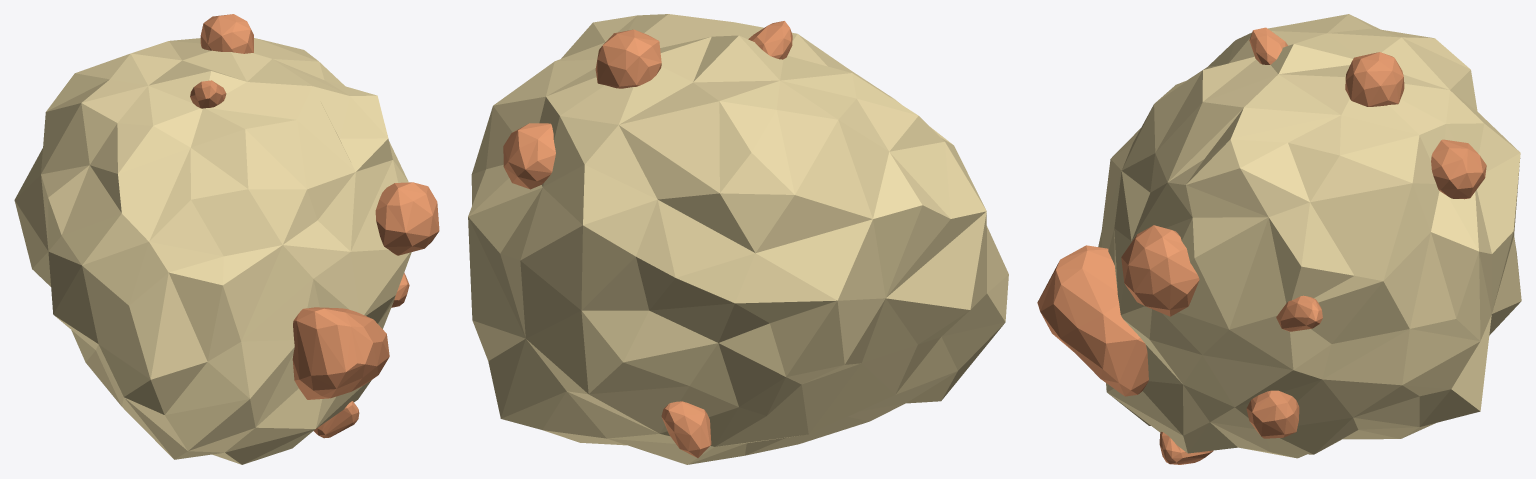
File: StoneOre (59).fbx
3 renders of one model, left to right at view 1: azimuth 30°, elevation 25°; view 2: azimuth 150°, elevation 25°; view 3: azimuth 270°, elevation 25°, orthographic. The views are drawn at different scales.
Parts seen in each view (by area): view 1: Asteroid346; view 2: Asteroid346; view 3: Asteroid346.
Part boxes in pixels (<box>): Asteroid346: <box>14,14,439,464</box>; Asteroid346: <box>468,14,1008,464</box>; Asteroid346: <box>1037,14,1521,464</box>.
Bounding box in the file's own units: 563 × 524 × 573.
